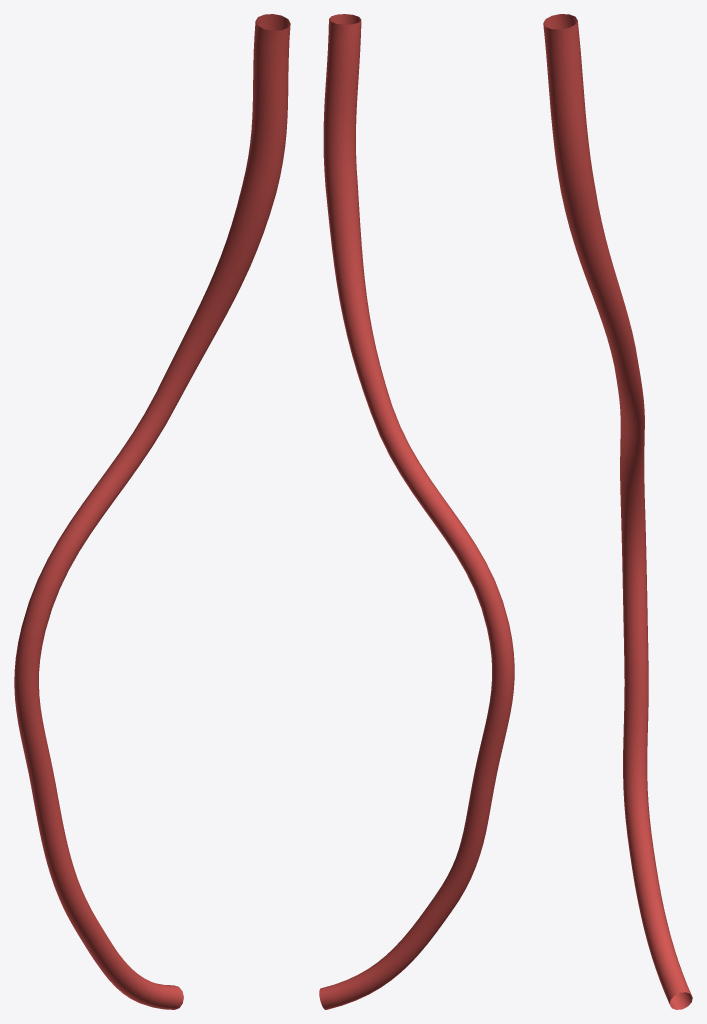
The picture shows the model from 3 angles, left to right: view 1: azimuth 30°, elevation 25°; view 2: azimuth 150°, elevation 25°; view 3: azimuth 270°, elevation 25°; orthographic projection. The views are drawn at different scales.
Visible parts, largest first — view 1: 右侧眼动脉; view 2: 右侧眼动脉; view 3: 右侧眼动脉.
Boxes of the visible parts, left/top/right/bottom form: 右侧眼动脉: left=14, top=14, right=290, bottom=1009; 右侧眼动脉: left=319, top=14, right=514, bottom=1009; 右侧眼动脉: left=543, top=14, right=692, bottom=1009.
Bounding box in the file's own units: 0.0114 × 0.0472 × 0.00634.
